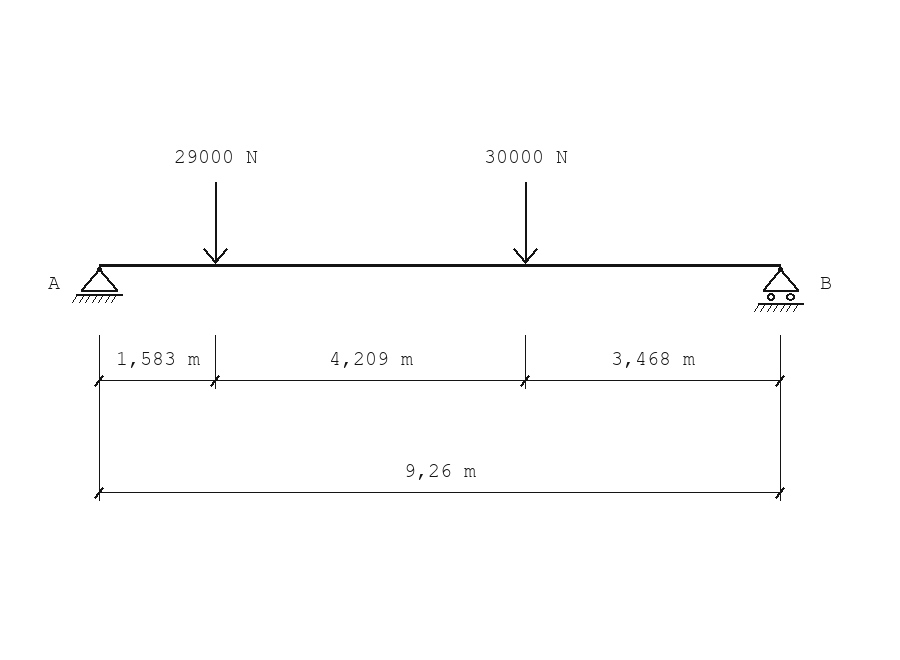pin_support: (72, 267, 123, 303)
point_load: (203, 182, 228, 264), (513, 182, 538, 264)
roller_support: (754, 267, 804, 312)
